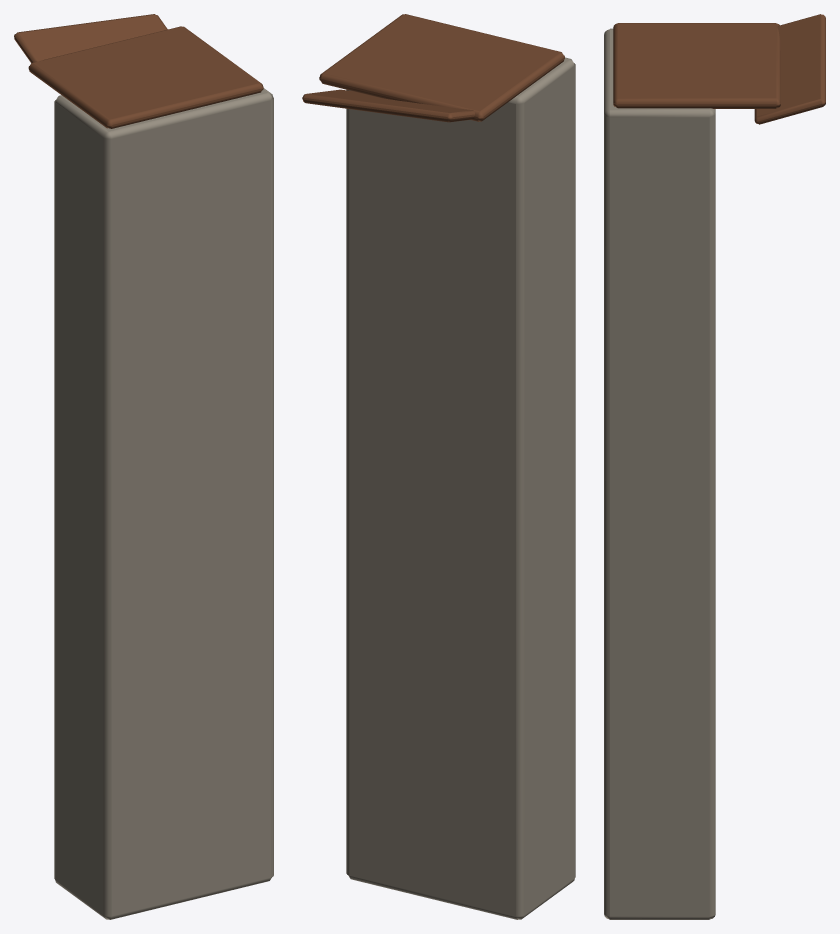
Rendered from old_bridge_far.glb.
3 views of the same model, side by side, from view 1: azimuth 30°, elevation 25°; view 2: azimuth 150°, elevation 25°; view 3: azimuth 270°, elevation 25° (orthographic). The views are drawn at different scales.
Visible parts, largest first — view 1: body; view 2: body; view 3: body.
Part boxes in pixels (x1,y1,x2,y2): body: [14, 14, 273, 919]; body: [302, 14, 575, 919]; body: [604, 14, 825, 919].
Bounding box in the file's own units: 5.4 × 24.62 × 5.96.
